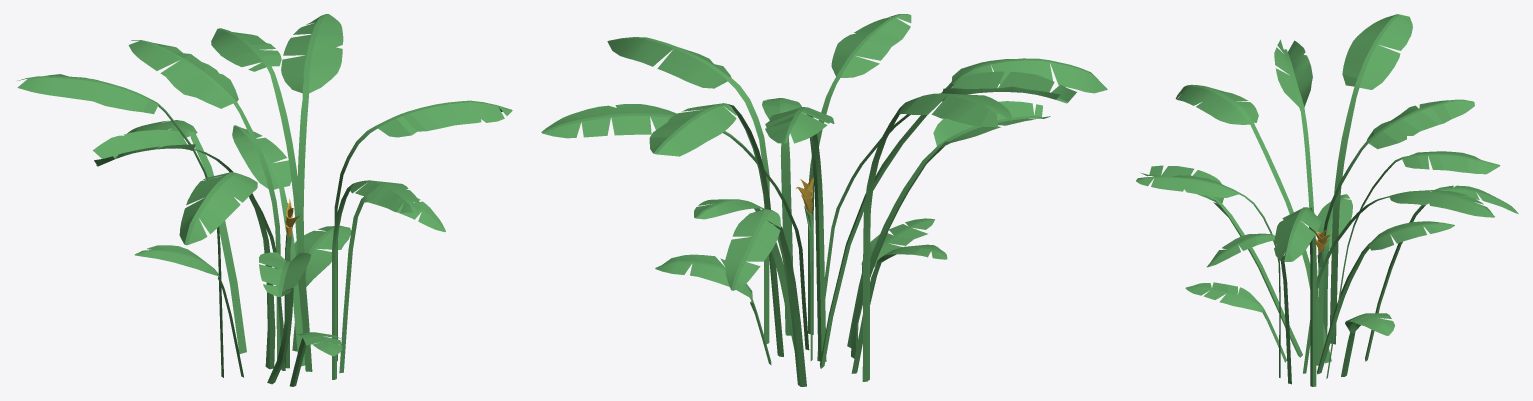
Rendered from plant_palm_B.fbx.
3 views of the same model, side by side, from view 1: azimuth 30°, elevation 25°; view 2: azimuth 150°, elevation 25°; view 3: azimuth 270°, elevation 25° (orthographic). The views are drawn at different scales.
Parts seen in each view (by area): view 1: plant_palm_B; view 2: plant_palm_B, palm_B_fruit_stem; view 3: plant_palm_B, palm_B_fruit_stem.
Boxes of the visible parts, box(x1,y1,x2,y2) form: plant_palm_B: box(17, 14, 512, 386); plant_palm_B: box(541, 14, 1107, 386); palm_B_fruit_stem: box(804, 205, 813, 360); plant_palm_B: box(1136, 14, 1518, 386); palm_B_fruit_stem: box(1317, 251, 1323, 364).
Size of the model in its own units: 315 by 216 by 284.
